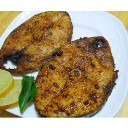seerfish: (32, 36, 116, 117), (1, 12, 73, 72)
